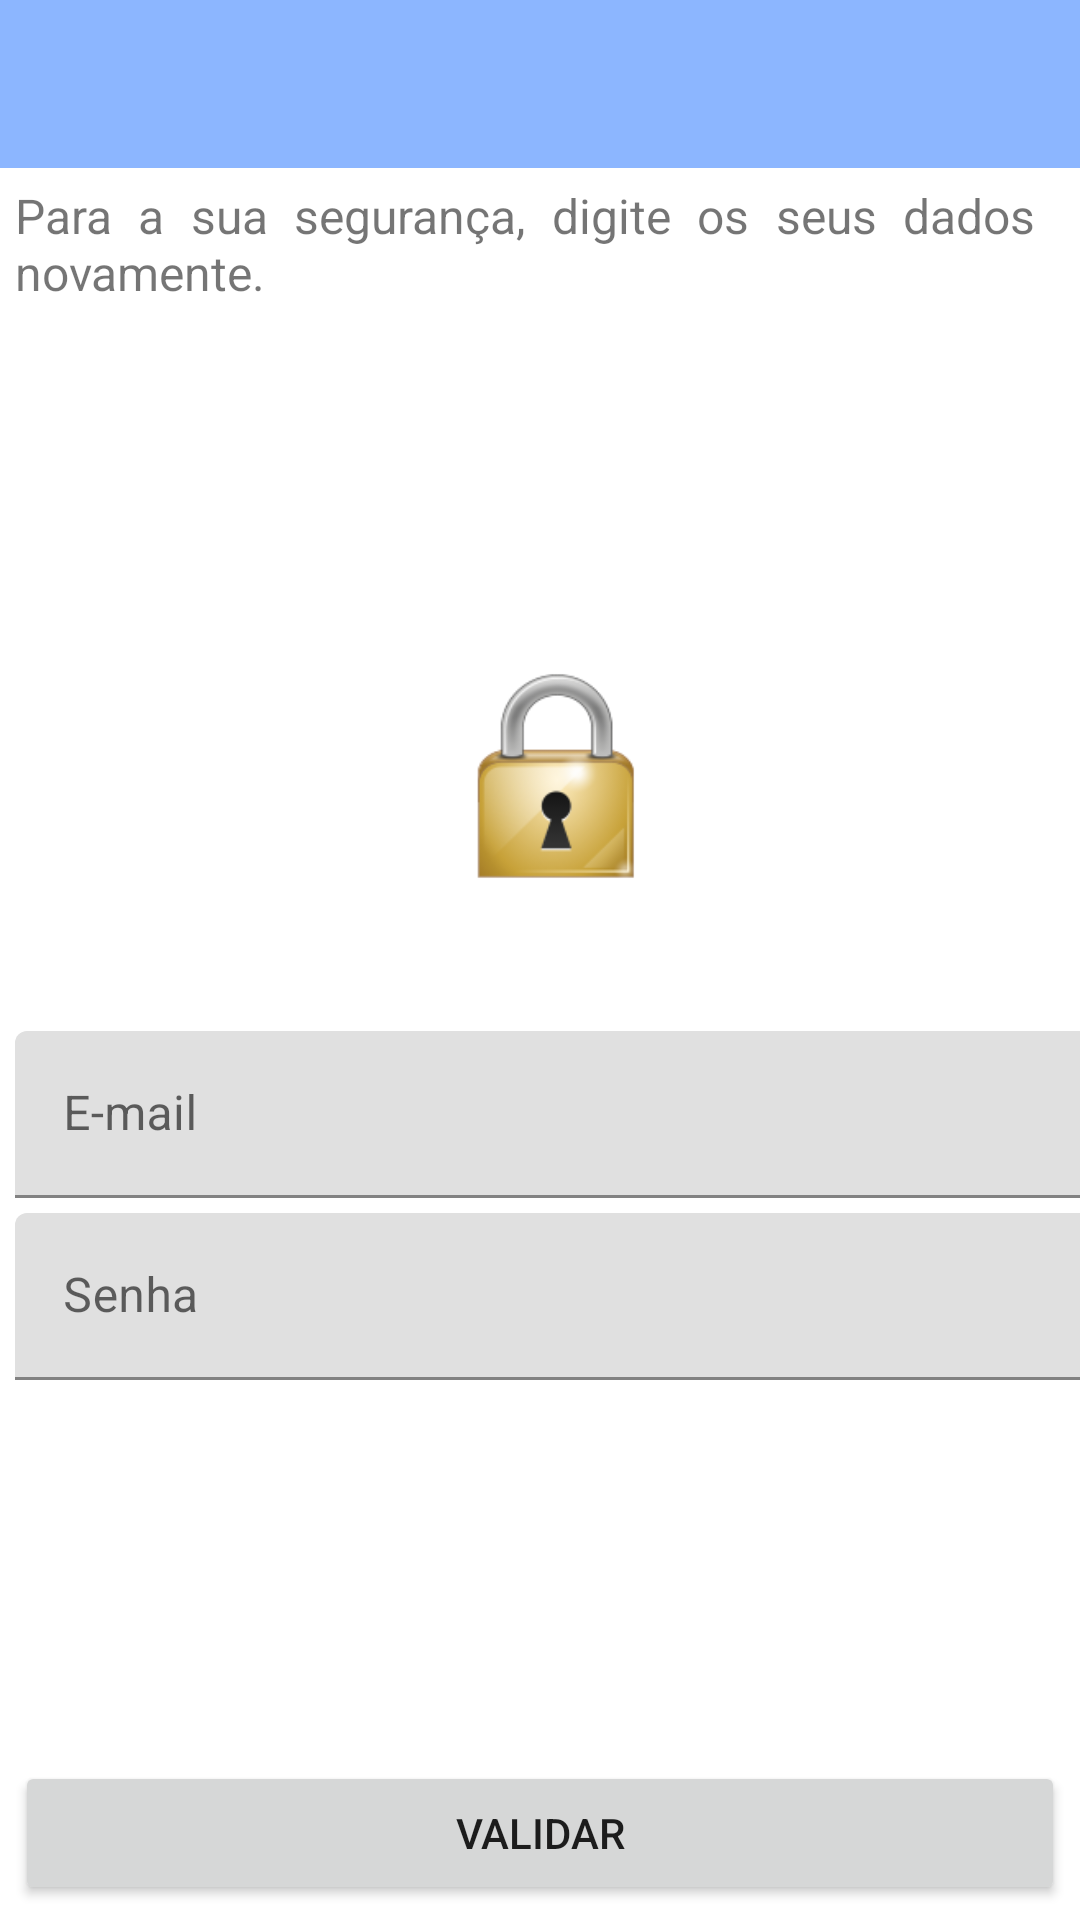

Locate icon controls on the screen. Image size 1080px x 1920px, boxes as {"left": x1, "top": y1, "right": x2, "bottom": y2}.
login: {"left": 477, "top": 674, "right": 634, "bottom": 878}
